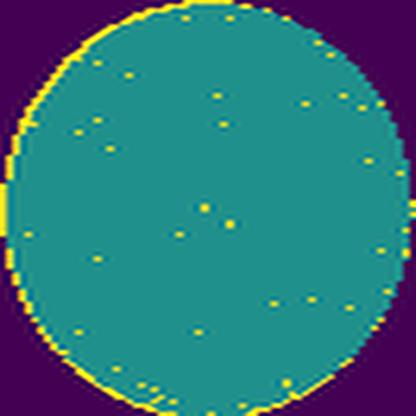Edge-Ring: (0, 0, 235, 416)
